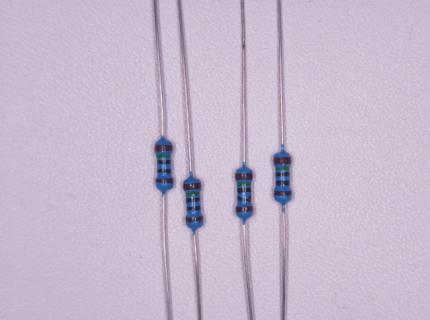Black band: (238, 196, 251, 202), (157, 168, 171, 173), (237, 187, 251, 192), (186, 198, 200, 203), (275, 181, 289, 186), (187, 206, 200, 211), (276, 172, 289, 177), (158, 160, 171, 164)
Brown band: (183, 183, 201, 191), (274, 156, 291, 164), (156, 144, 173, 151), (185, 215, 202, 222), (235, 173, 252, 180), (274, 190, 292, 196), (236, 206, 253, 212), (155, 178, 172, 183)
Green band: (187, 192, 199, 197), (157, 154, 171, 158), (237, 182, 251, 186), (276, 166, 289, 170)
